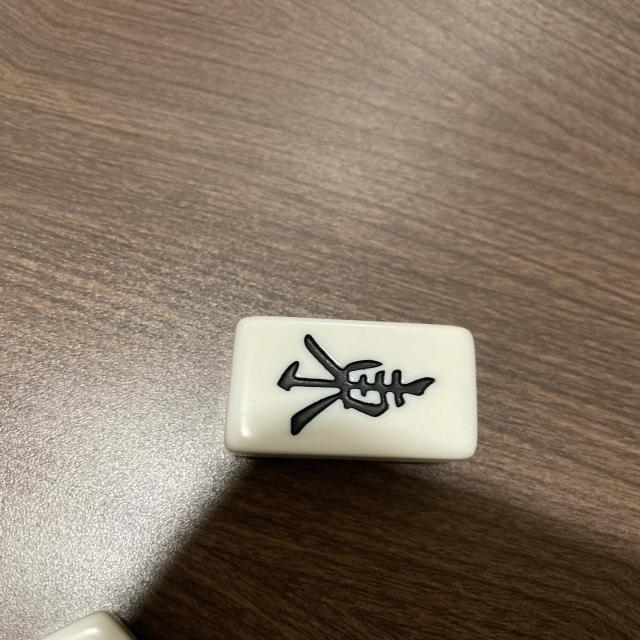east: (239, 320, 473, 455)
